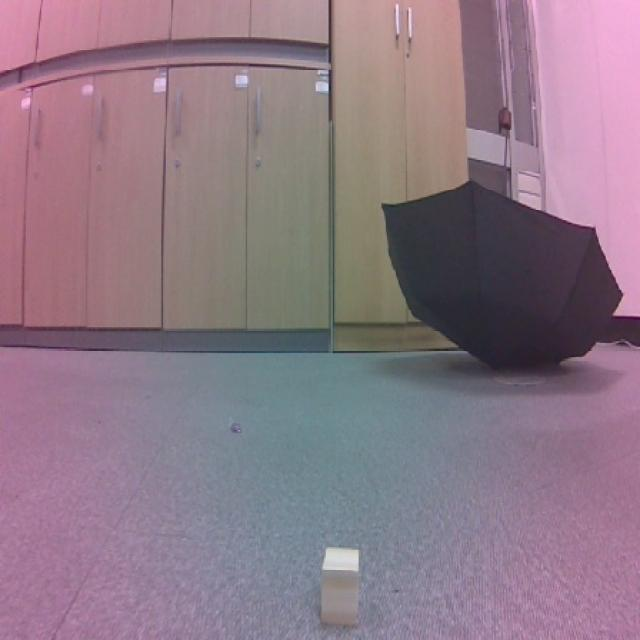obstacle: (314, 541, 376, 632)
